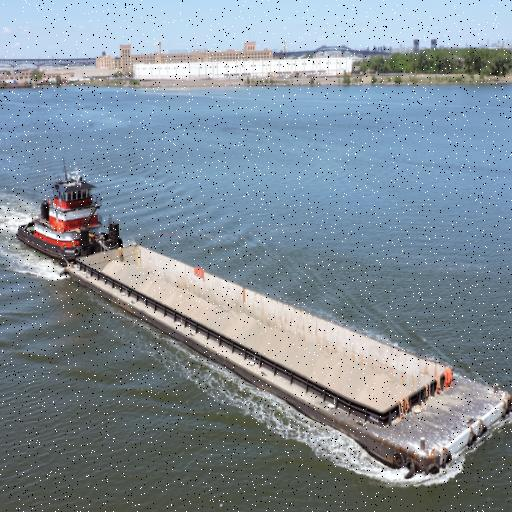tugboat: (15, 156, 130, 281)
